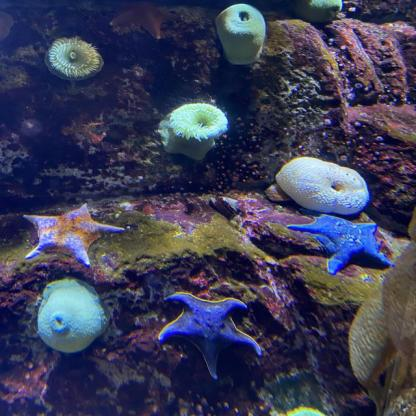starfish: (165, 294, 266, 368), (287, 213, 392, 270), (27, 209, 121, 264)
